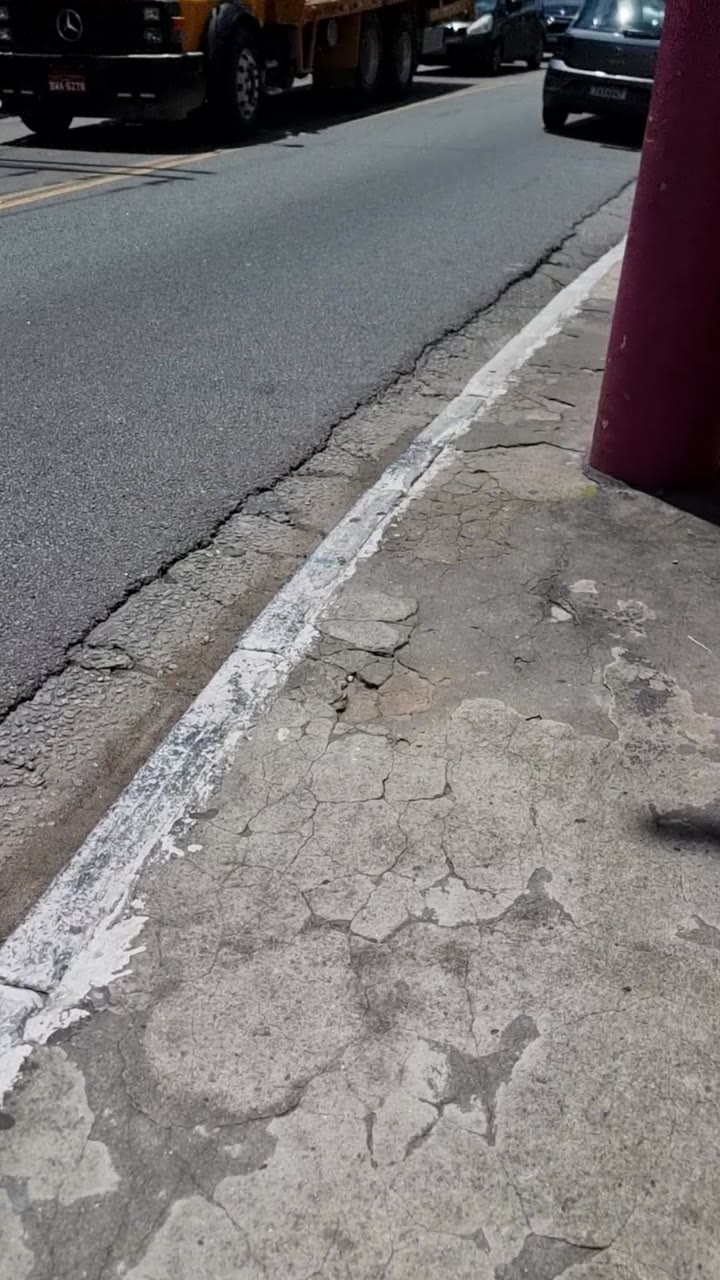obstaculo: (592, 3, 720, 490)
